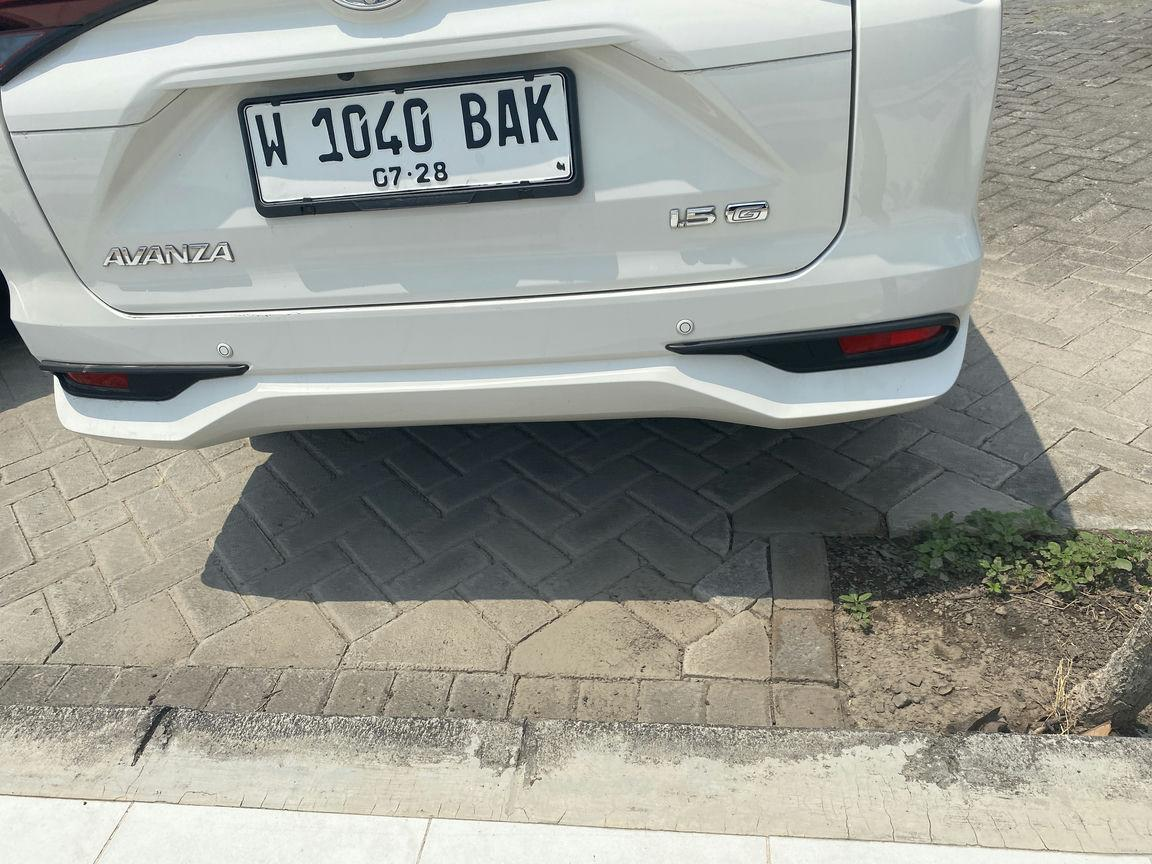plat: (238, 70, 583, 216)
